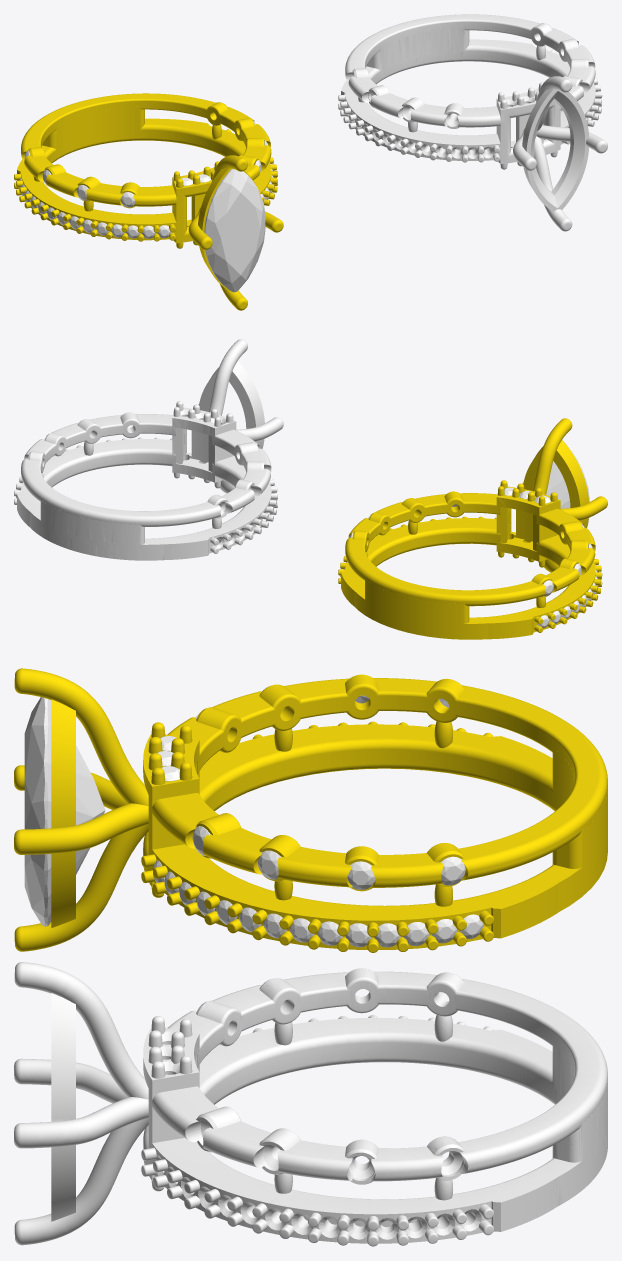
Rendered from 1787564213807-LLGCC338RG.glb.
3 renders of one model, top to bottom at view 1: azimuth 30°, elevation 25°; view 2: azimuth 150°, elevation 25°; view 3: azimuth 270°, elevation 25°, orthographic. The views are drawn at different scales.
Parts seen in each view (by area): view 1: empty_3, empty_29, Diamond_Marquise, empty_65, empty_39, empty_40, empty_34, empty_38, empty_69, empty_58, empty_57, empty_6 (+3 smaller); view 2: empty_3, empty_29, empty_65, empty_40, empty_34, empty_69, empty_39, empty_7, empty_63, Diamond_Marquise, empty_37, empty_38 (+6 smaller); view 3: empty_3, empty_29, Diamond_Marquise, empty_39, empty_40, empty_69, empty_7, empty_4, empty_5, empty_65, empty_34, empty_60 (+13 smaller).
Boxes of the visible parts, left/top/right/bottom form: empty_3: left=338, top=14, right=607, bottom=231; empty_29: left=21, top=118, right=271, bottom=240; Diamond_Marquise: left=204, top=169, right=265, bottom=292; empty_65: left=42, top=106, right=144, bottom=150; empty_39: left=86, top=93, right=216, bottom=118; empty_40: left=21, top=100, right=92, bottom=160; empty_34: left=172, top=168, right=214, bottom=243; empty_38: left=133, top=185, right=181, bottom=206; empty_69: left=198, top=168, right=259, bottom=290; empty_58: left=86, top=183, right=122, bottom=205; empty_57: left=46, top=172, right=84, bottom=197; empty_6: left=188, top=207, right=212, bottom=249; empty_3: left=14, top=339, right=283, bottom=560; empty_29: left=345, top=518, right=595, bottom=639; empty_65: left=365, top=580, right=469, bottom=628; empty_40: left=408, top=581, right=544, bottom=606; empty_34: left=496, top=486, right=560, bottom=561; empty_69: left=523, top=440, right=588, bottom=527; empty_39: left=345, top=537, right=415, bottom=596; empty_7: left=533, top=418, right=572, bottom=494; empty_63: left=488, top=617, right=533, bottom=639; Diamond_Marquise: left=546, top=439, right=589, bottom=527; empty_37: left=460, top=493, right=500, bottom=514; empty_38: left=536, top=508, right=583, bottom=535; empty_3: left=14, top=962, right=607, bottom=1246; empty_29: left=152, top=724, right=607, bottom=949; Diamond_Marquise: left=24, top=697, right=105, bottom=926; empty_39: left=458, top=773, right=607, bottom=880; empty_40: left=454, top=685, right=607, bottom=779; empty_69: left=51, top=699, right=75, bottom=927; empty_7: left=14, top=668, right=148, bottom=806; empty_4: left=14, top=824, right=148, bottom=951; empty_5: left=14, top=803, right=148, bottom=854; empty_65: left=552, top=748, right=607, bottom=875; empty_34: left=143, top=734, right=199, bottom=887; empty_60: left=277, top=847, right=352, bottom=887.
Bounding box in the file's own units: 51.1 × 13.39 × 25.66.
